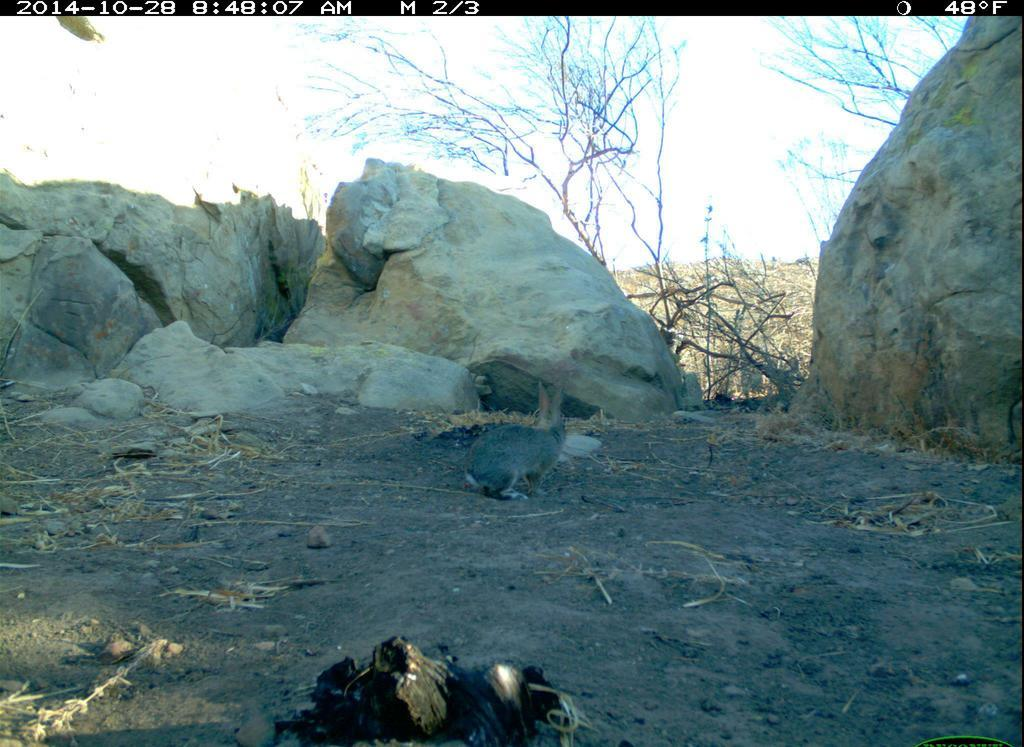rabbit: (460, 370, 583, 501)
